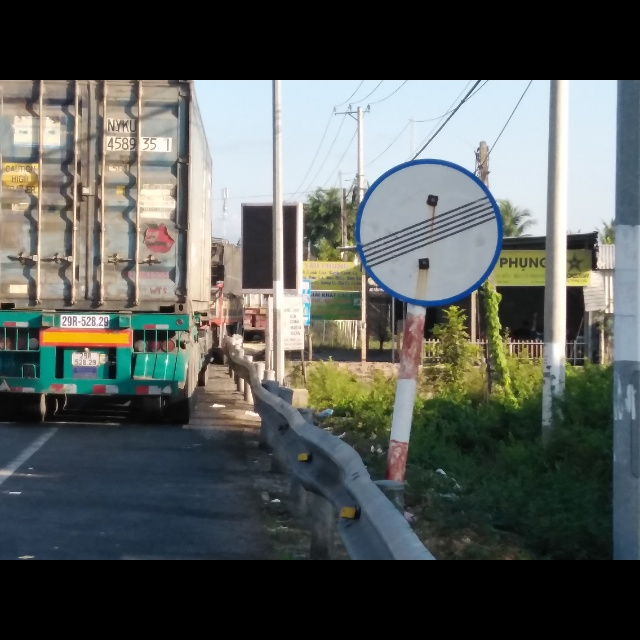Hết tất cả các lệnh cấm: (354, 156, 506, 306)
